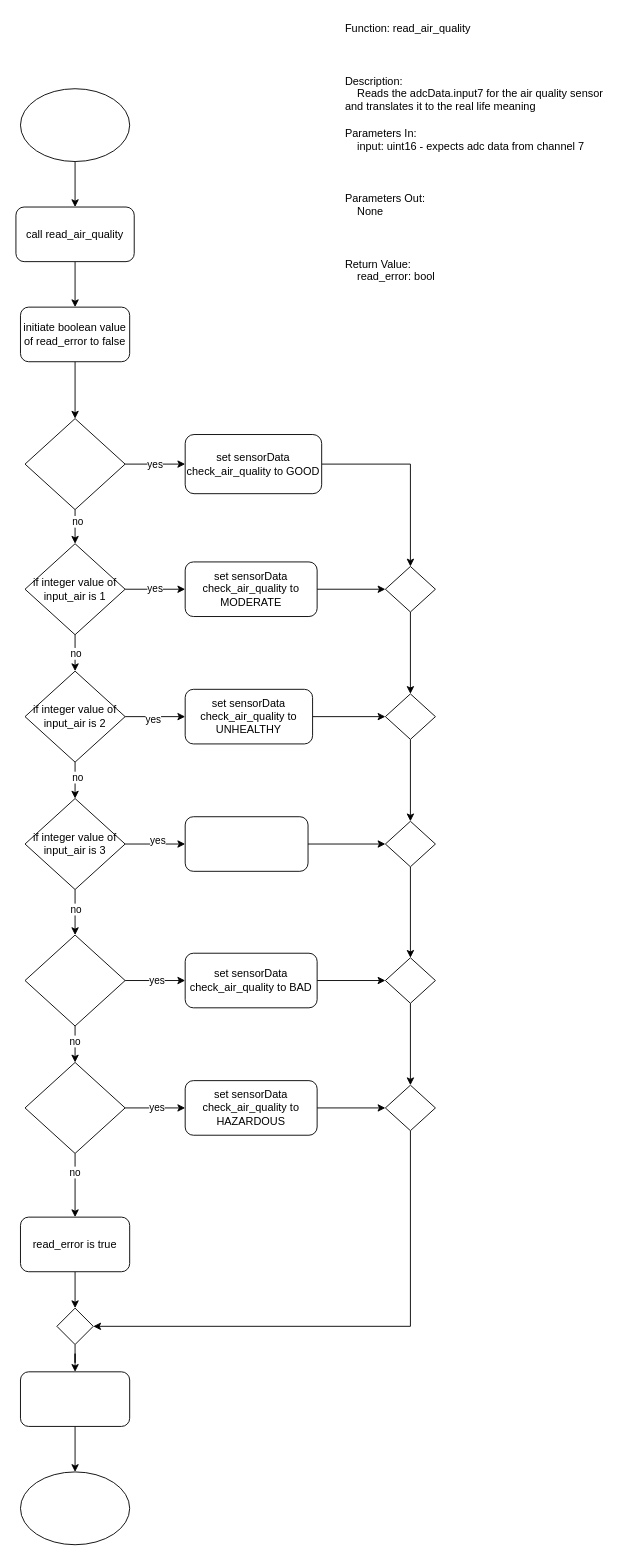
The diagram is 632 pixels wide and 1561 high, and some of its shapes have lost their labels. The shapes that lost their labels are listed below. From the top down, each one's centre as x and y in pixels, then its label:
(x=74, y=464): if integer value of input_air is 0
(x=246, y=843): set sensorData check_air_quality to VERY_UNHEALTHY
(x=74, y=980): if integer value of input_air is 4
(x=74, y=1107): if integer value of input_air is 5
(x=75, y=1398): return read_error
